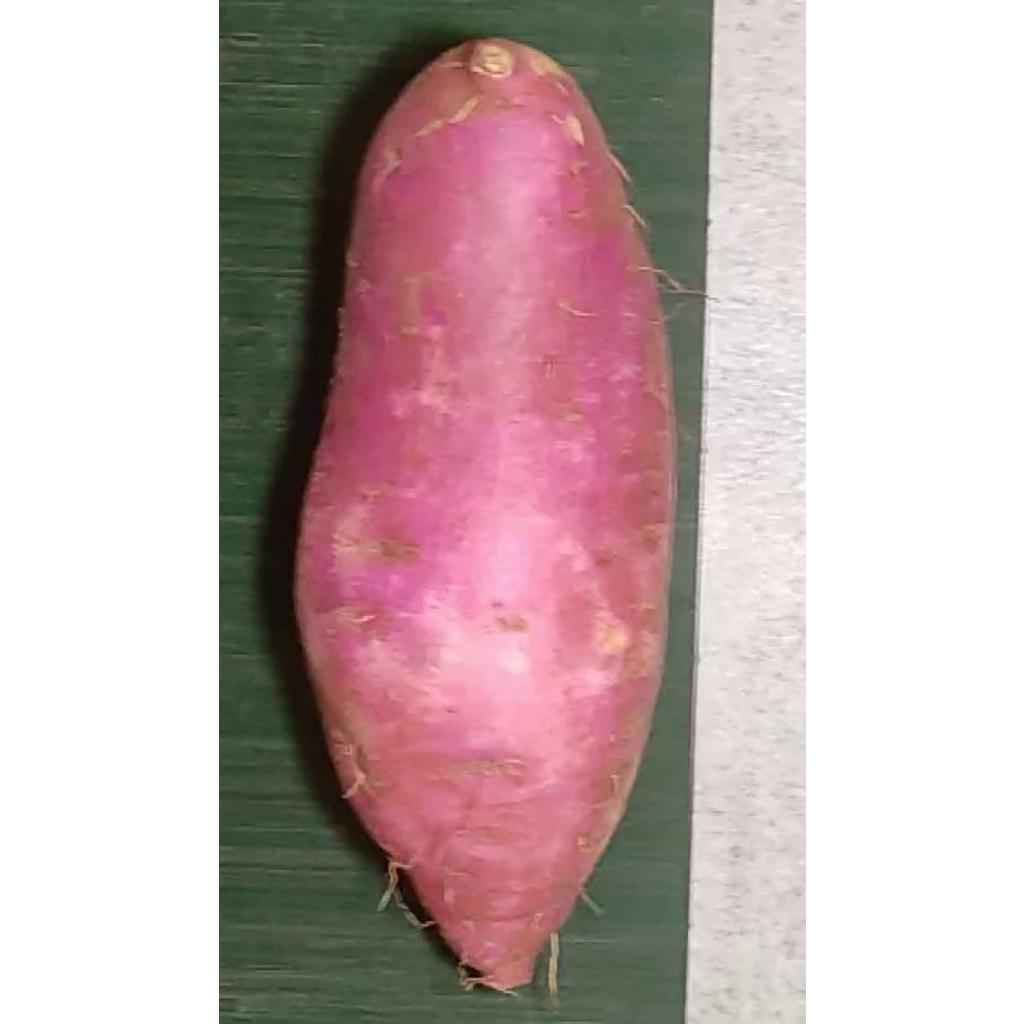Sweet Potato: (295, 38, 677, 994)
